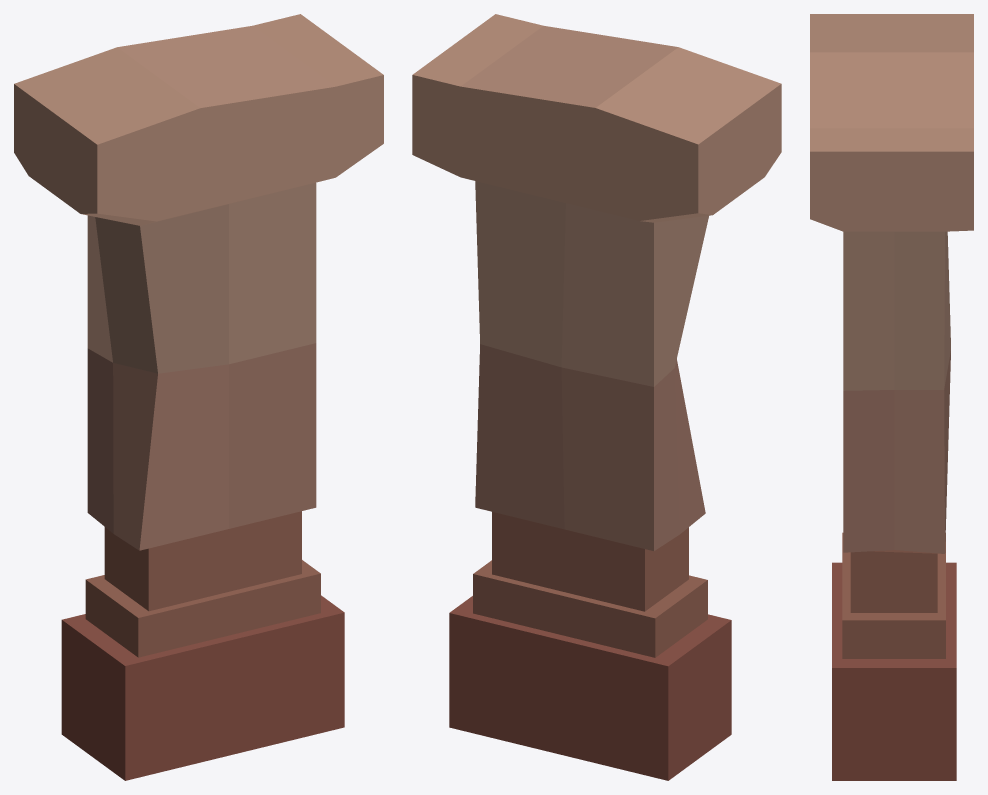
Rendered from Collumn1.fbx.
3 renders of one model, left to right at view 1: azimuth 30°, elevation 25°; view 2: azimuth 150°, elevation 25°; view 3: azimuth 270°, elevation 25°, orthographic.
Parts seen in each view (by area): view 1: Cube; view 2: Cube; view 3: Cube.
Boxes of the visible parts, <box> form: Cube: <box>14,14,383,780</box>; Cube: <box>412,14,781,780</box>; Cube: <box>810,14,973,780</box>.
Size of the model in its own units: 522 by 1158 by 263.
